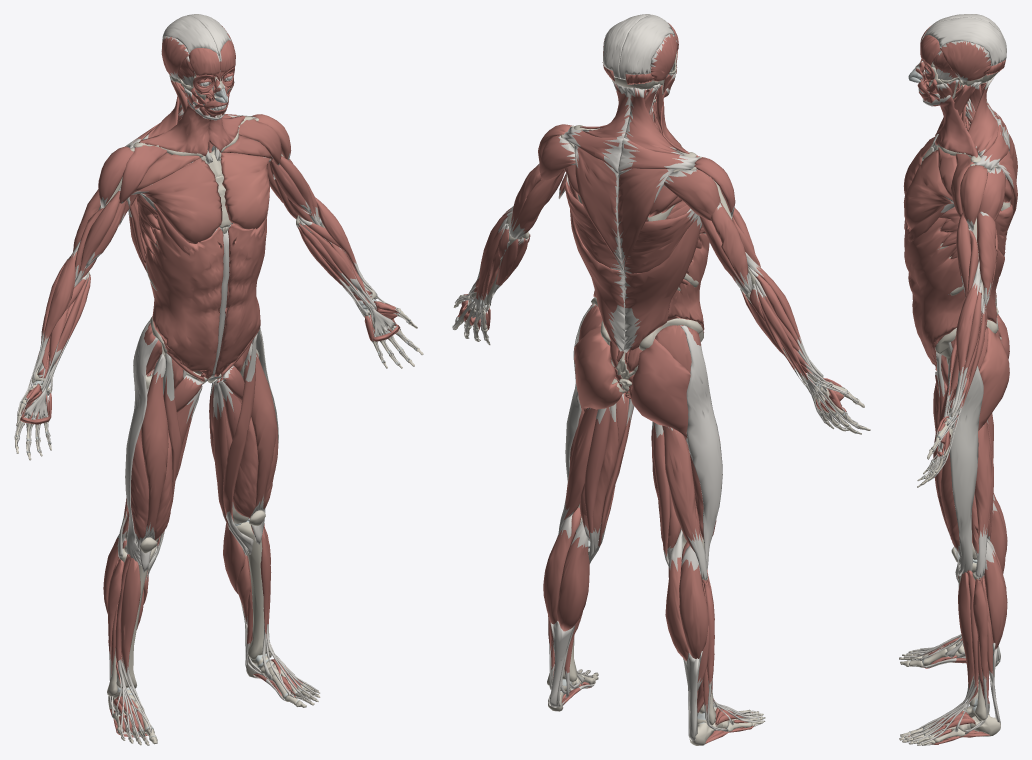
The model's file is astronaut_anatomy.glb.
3 views of the same model, side by side, from view 1: azimuth 30°, elevation 25°; view 2: azimuth 150°, elevation 25°; view 3: azimuth 270°, elevation 25° (orthographic). The views are drawn at different scales.
Parts seen in each view (by area): view 1: muscle__muscles_other, muscle__muscles_legs, muscle__muscles_arms, bone__skeleton_lower, bone__skeleton_upper; view 2: muscle__muscles_legs, muscle__muscles_arms, muscle__muscles_other, bone__skeleton_upper, bone__skeleton_lower; view 3: muscle__muscles_legs, muscle__muscles_other, muscle__muscles_arms, bone__skeleton_lower, bone__skeleton_upper.
Part boxes in pixels (x1=…): muscle__muscles_other: x1=119, y1=14, x2=281, y2=379; muscle__muscles_legs: x1=103, y1=92, x2=317, y2=741; muscle__muscles_arms: x1=14, y1=114, x2=417, y2=452; bone__skeleton_lower: x1=107, y1=316, x2=320, y2=745; bone__skeleton_upper: x1=15, y1=55, x2=423, y2=460; muscle__muscles_legs: x1=539, y1=82, x2=762, y2=745; muscle__muscles_arms: x1=452, y1=124, x2=864, y2=430; muscle__muscles_other: x1=558, y1=14, x2=715, y2=332; bone__skeleton_upper: x1=452, y1=51, x2=870, y2=434; bone__skeleton_lower: x1=547, y1=297, x2=765, y2=745; muscle__muscles_legs: x1=904, y1=75, x2=1017, y2=745; muscle__muscles_other: x1=903, y1=14, x2=1006, y2=366; muscle__muscles_arms: x1=921, y1=165, x2=998, y2=481; bone__skeleton_lower: x1=899, y1=306, x2=1000, y2=745; bone__skeleton_upper: x1=908, y1=50, x2=1010, y2=487.
Size of the model in its own units: 1.06 by 1.7 by 0.267.
